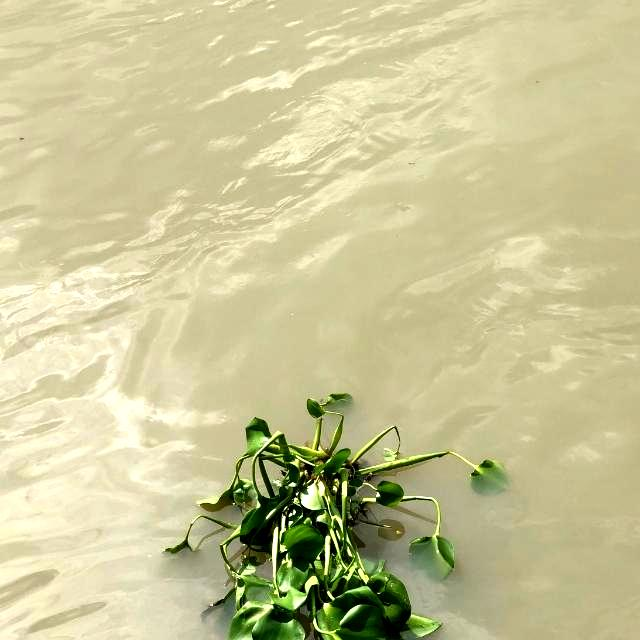water-hyacinth: (188, 388, 501, 640)
